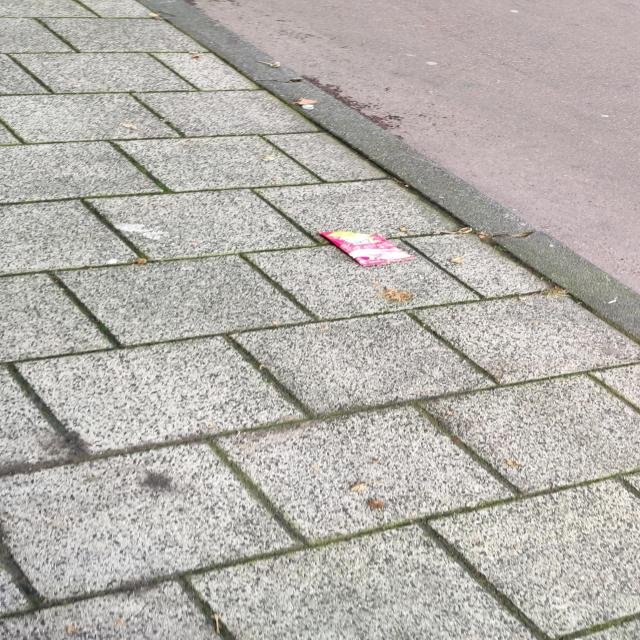litter: (312, 228, 405, 269)
